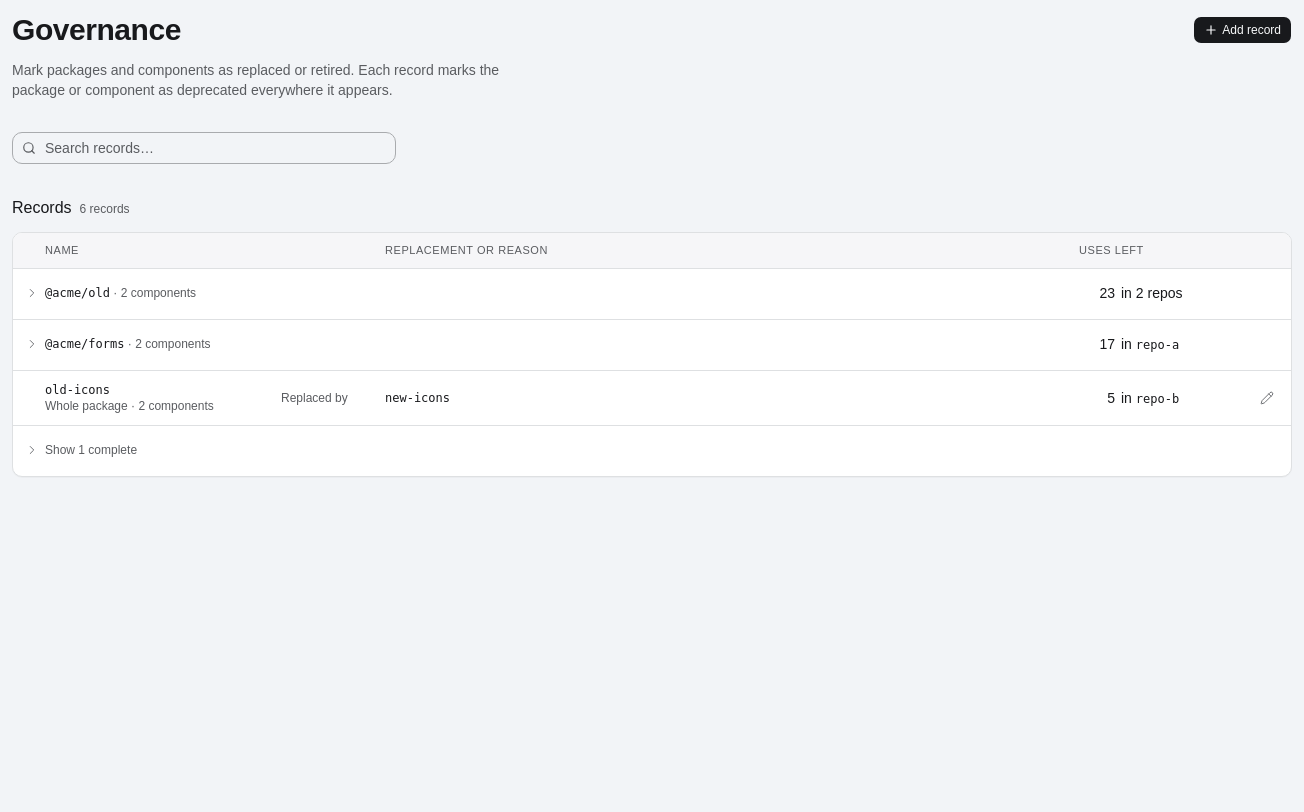
Test: GovernanceManager › links each count to the record's trend, named by its visible text and the record
This screenshot has width=1304, height=812.
Step 1. Click the button named "Records in " → (32, 293), box [20,281,44,305]
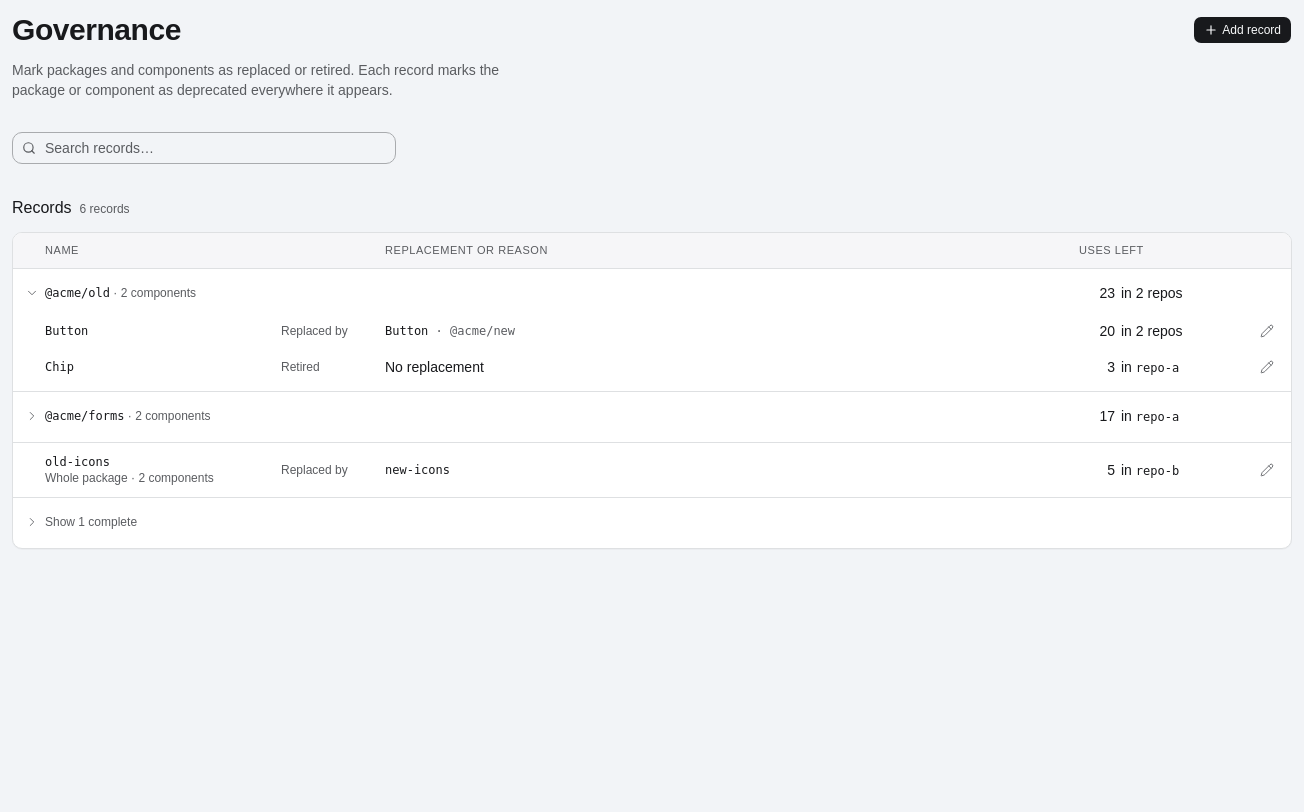
Step 2. Click the button named "Records in " → (32, 416), box [20,404,44,428]
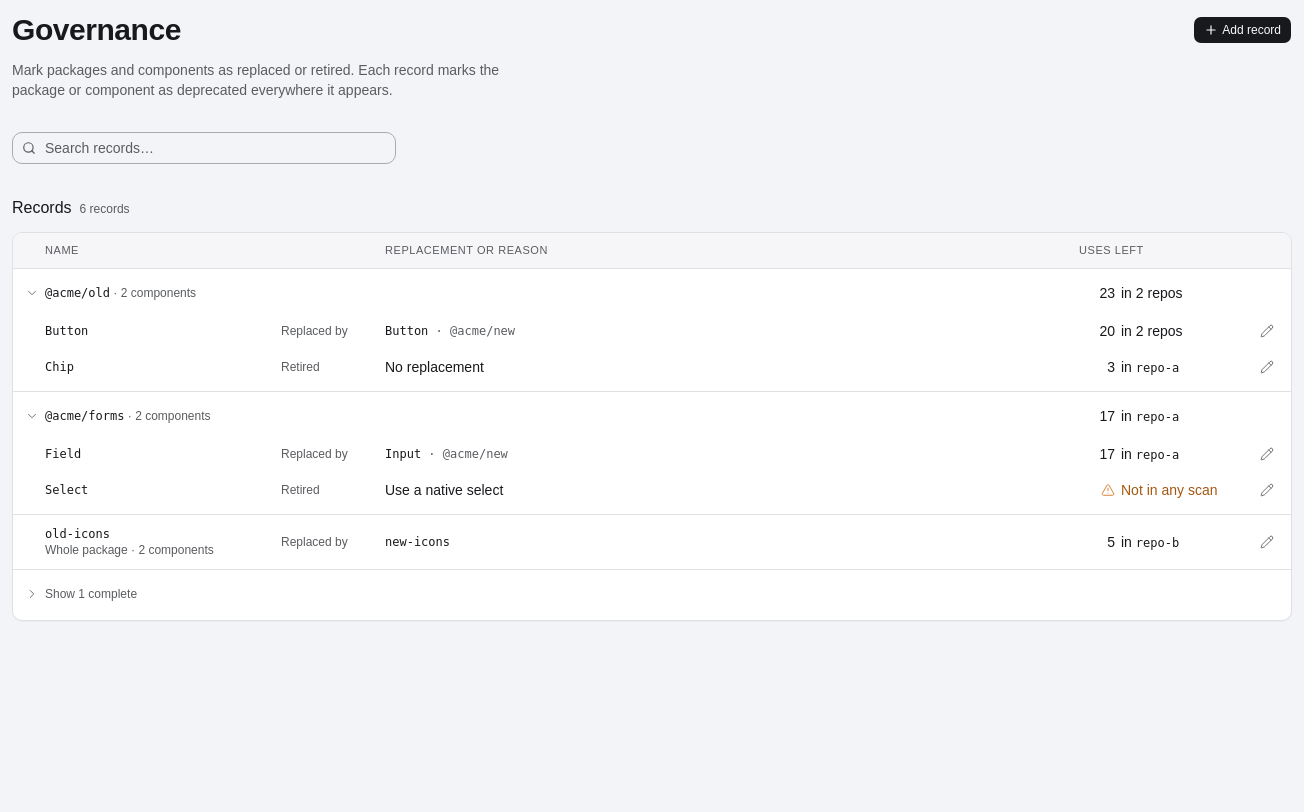
Now the text "Not in any scan" is shown, box [1121,480,1218,500]
